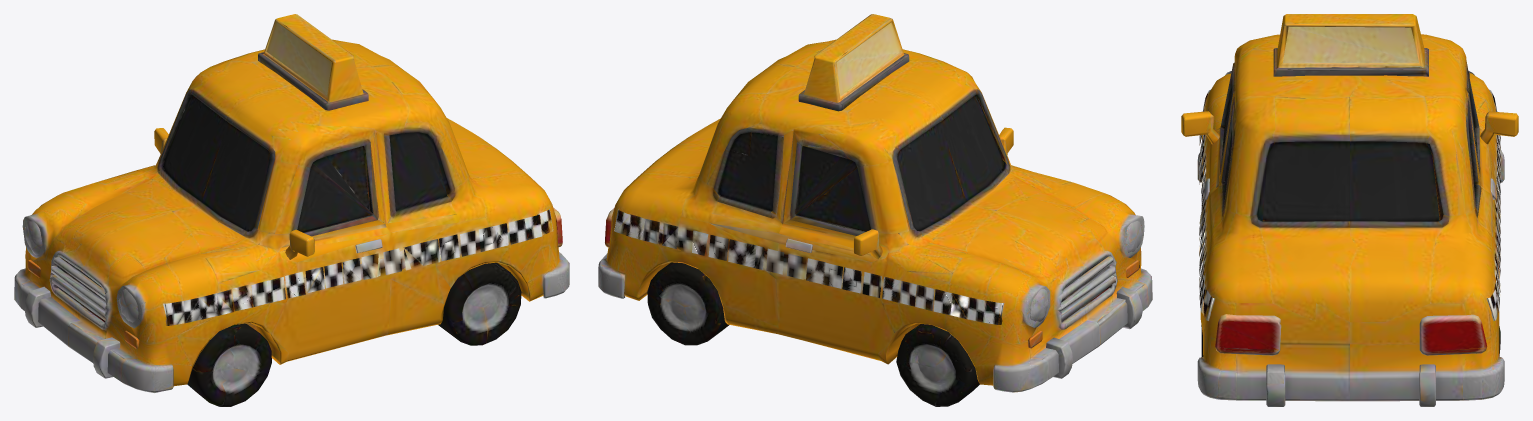
The model's file is 52-taxi.glb.
3 views of the same model, side by side, from view 1: azimuth 30°, elevation 25°; view 2: azimuth 150°, elevation 25°; view 3: azimuth 270°, elevation 25° (orthographic). The views are drawn at different scales.
Visible parts, largest first — view 1: geometry_0; view 2: geometry_0; view 3: geometry_0.
Boxes of the visible parts, x1,y1,x2,y2 form: geometry_0: (14,14,569,406); geometry_0: (598,14,1152,406); geometry_0: (1181,14,1518,406).
Size of the model in its own units: 0.9546 by 0.5679 by 0.5503.
Materials: 1 (1 with a texture image).
